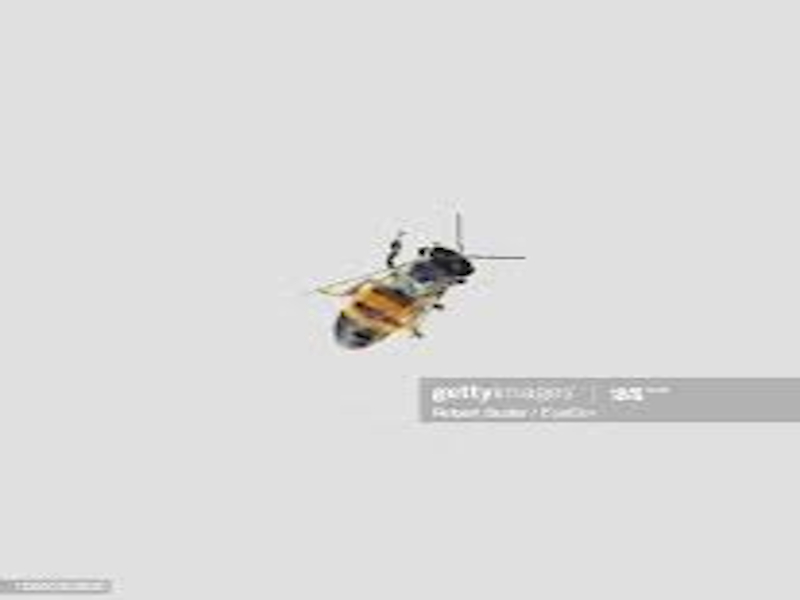abeja: (314, 194, 526, 364)
